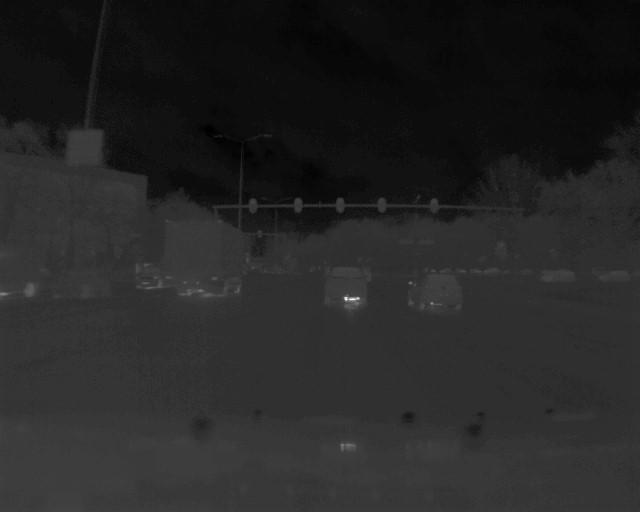car: (405, 271, 466, 313), (321, 262, 371, 312), (54, 270, 114, 300), (134, 265, 167, 290), (597, 266, 632, 287), (541, 268, 578, 283)
